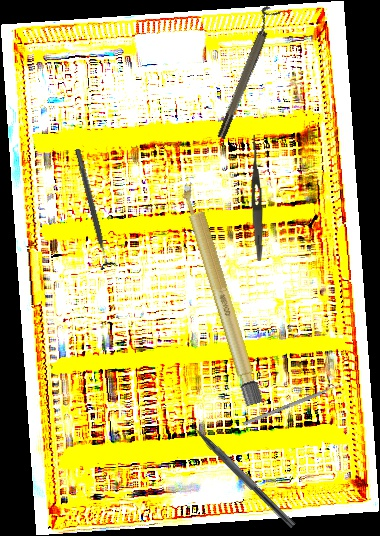Chopper: (181, 410, 303, 529)
Dressing Forceps: (247, 133, 266, 262)
Fixation Ring: (209, 4, 282, 141), (68, 146, 119, 271)
Pusher: (242, 379, 350, 427)
Scalpel Handle: (178, 180, 265, 407)
